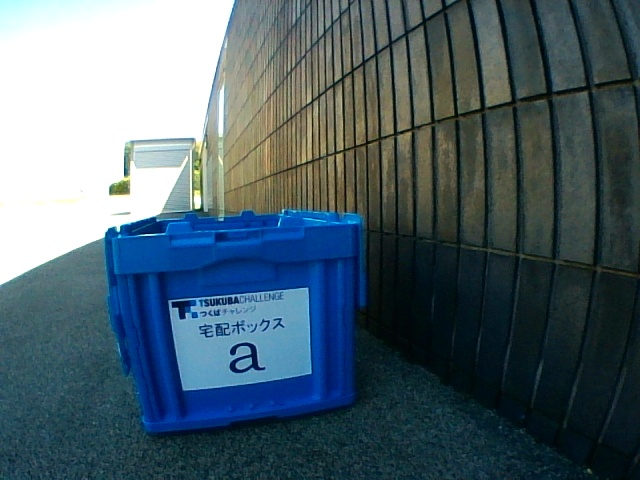blue_box: (104, 210, 365, 432)
tag_a: (192, 306, 290, 377)
